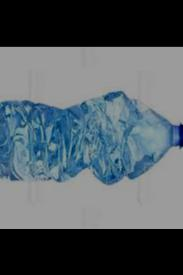Plastic: (0, 85, 182, 189)
